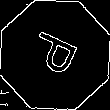P_SE: (24, 27, 86, 83)
